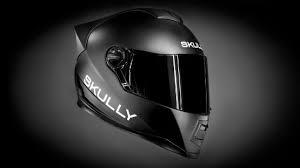helmet: (76, 8, 210, 158)
